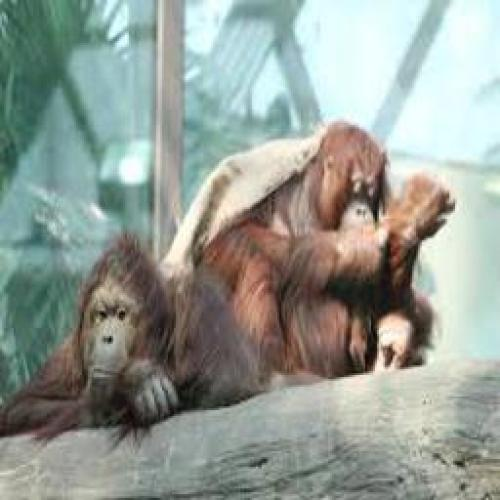orangutan-endangered: (190, 125, 454, 384), (0, 236, 258, 427)
